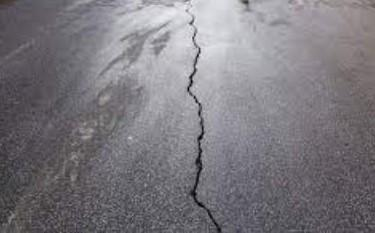pothole: (181, 0, 225, 233)
